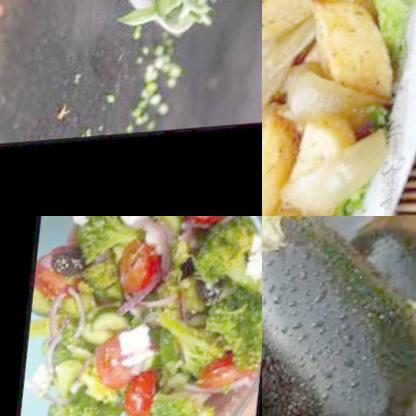beans: (124, 0, 262, 49)
broccoli: (148, 309, 235, 380), (191, 218, 262, 294), (74, 216, 139, 271), (209, 295, 262, 358), (149, 383, 196, 416), (41, 393, 97, 416)
cucumber: (79, 310, 131, 348)
eggplant: (262, 216, 416, 416)
onion: (40, 287, 74, 377)
potato: (262, 0, 416, 216)
tomato: (106, 239, 160, 310), (92, 333, 145, 393), (34, 253, 85, 313), (194, 363, 255, 396), (120, 370, 163, 416), (177, 216, 236, 232)
